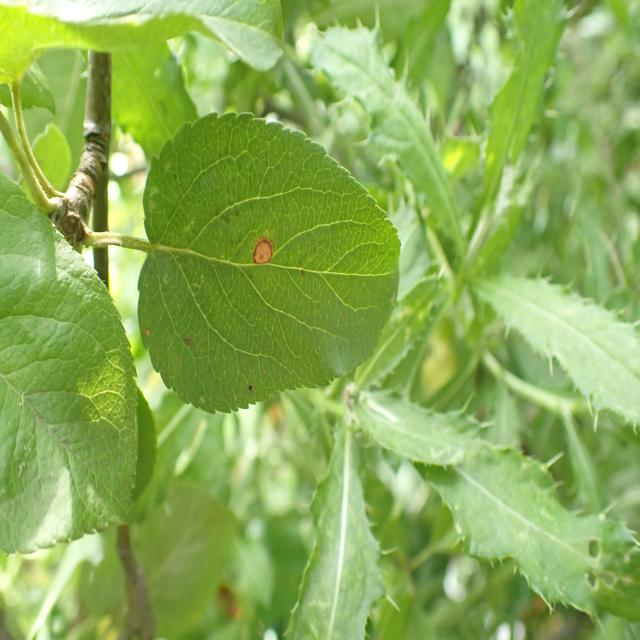Black Rot: (246, 217, 287, 287)
